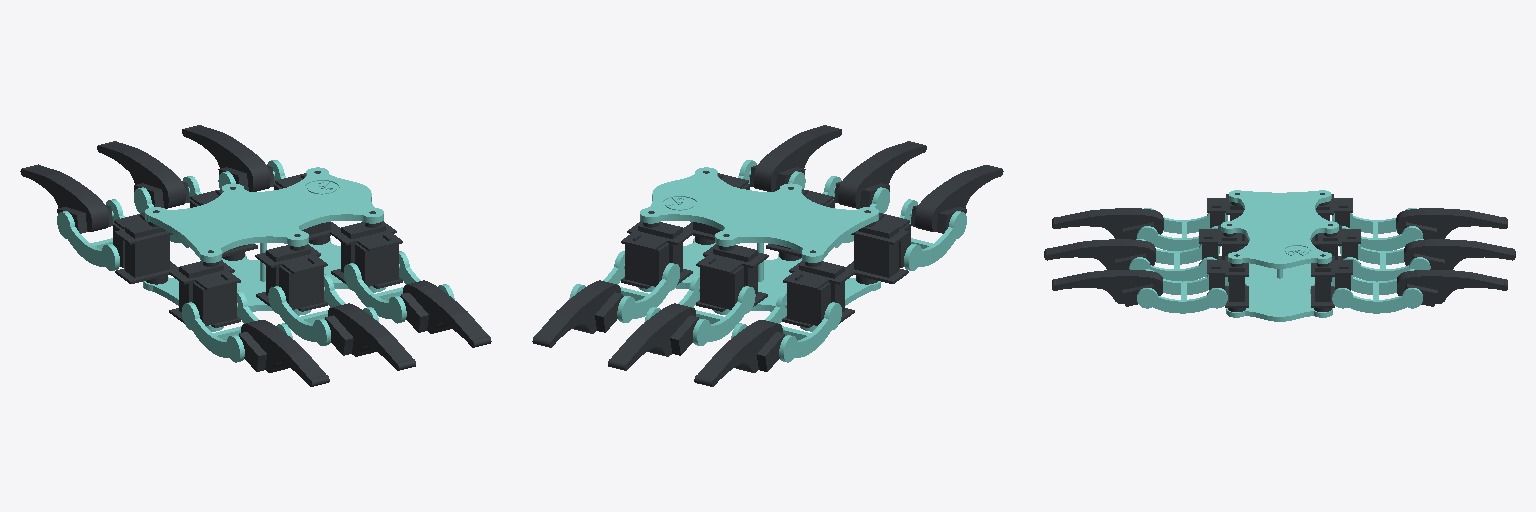
URDF robot description (COMPLETE):
<?xml version="1.0" ?>
<!-- Generated using onshape-to-robot -->
<!-- Onshape document_id: b8b254ae2dc4b877212314ad -->
<robot name="COMPLETE">
  <!-- Link corpo_center -->
  <link name="corpo_center">
    <inertial>
      <origin xyz="-0.000700181 0.00144946 0.405122" rpy="0 0 0"/>
      <mass value="399.518"/>
      <inertia ixx="100.114" ixy="0.152509" ixz="0.0528428" iyy="212.406" iyz="-0.219103" izz="199.064"/>
    </inertial>
    <!-- Part corpo_center -->
    <visual>
      <origin xyz="-0.0143743 0.00199567 -0.26" rpy="0 -0 0"/>
      <geometry>
        <mesh filename="package://assets/corpo_center.stl"/>
      </geometry>
      <material name="corpo_center_material">
        <color rgba="0.537255 0.854902 0.827451 1"/>
      </material>
    </visual>
  </link>
  <!-- Link coxa_left -->
  <link name="coxa_left">
    <inertial>
      <origin xyz="-0.0925616 0.105337 -0.414798" rpy="0 0 0"/>
      <mass value="114.719"/>
      <inertia ixx="5.39674" ixy="0.00271709" ixz="0.152845" iyy="4.85407" iyz="0.0207568" izz="4.06893"/>
    </inertial>
    <!-- Part coxa_left -->
    <visual>
      <origin xyz="0.958607 -1.04994 -1.085" rpy="-0 -0 0"/>
      <geometry>
        <mesh filename="package://assets/coxa_left.stl"/>
      </geometry>
      <material name="coxa_left_material">
        <color rgba="0.262745 0.282353 0.301961 1"/>
      </material>
    </visual>
    <collision>
      <origin xyz="0.958607 -1.04994 -1.085" rpy="-0 -0 0"/>
      <geometry>
        <mesh filename="package://assets/coxa_left.stl"/>
      </geometry>
    </collision>
  </link>
  <!-- Link femur_left -->
  <link name="femur_left">
    <inertial>
      <origin xyz="-0.0643845 0.446229 0.220001" rpy="0 0 0"/>
      <mass value="40.6019"/>
      <inertia ixx="6.83684" ixy="-0.00986258" ixz="-0.000315484" iyy="2.98626" iyz="0.000376993" izz="4.36702"/>
    </inertial>
    <!-- Part femur_left -->
    <visual>
      <origin xyz="-0.563378 -1.80581 -0.838551" rpy="1.57104 1.57069 1.5708"/>
      <geometry>
        <mesh filename="package://assets/femur_left.stl"/>
      </geometry>
      <material name="femur_left_material">
        <color rgba="0.537255 0.854902 0.827451 1"/>
      </material>
    </visual>
    <collision>
      <origin xyz="-0.563378 -1.80581 -0.838551" rpy="1.57104 1.57069 1.5708"/>
      <geometry>
        <mesh filename="package://assets/femur_left.stl"/>
      </geometry>
    </collision>
  </link>
  <!-- Link tibia_left -->
  <link name="tibia_left">
    <inertial>
      <origin xyz="0.0462768 0.291384 0.219975" rpy="0 0 0"/>
      <mass value="99.5939"/>
      <inertia ixx="11.0909" ixy="-0.806653" ixz="0.000179441" iyy="1.63167" iyz="0.000716102" izz="11.2229"/>
    </inertial>
    <!-- Part tibia_left -->
    <visual>
      <origin xyz="-0.713466 -3.17596 -0.837714" rpy="-1.52343 1.57063 -1.5708"/>
      <geometry>
        <mesh filename="package://assets/tibia_left.stl"/>
      </geometry>
      <material name="tibia_left_material">
        <color rgba="0.262745 0.282353 0.301961 1"/>
      </material>
    </visual>
    <collision>
      <origin xyz="-0.713466 -3.17596 -0.837714" rpy="-1.52343 1.57063 -1.5708"/>
      <geometry>
        <mesh filename="package://assets/tibia_left.stl"/>
      </geometry>
    </collision>
  </link>
  <!-- Joint from femur_left to tibia_left -->
  <joint name="tibia_1" type="revolute">
    <origin xyz="-0.000422005 0.9 0" rpy="0 -0 -0"/>
    <parent link="femur_left"/>
    <child link="tibia_left"/>
    <axis xyz="0 0 1"/>
    <limit effort="10" velocity="10" lower="-3.14159" upper="3.14159"/>
  </joint>
  <!-- Joint from coxa_left to femur_left -->
  <joint name="femur_1" type="revolute">
    <origin xyz="0.120255 0.256037 -0.522" rpy="-0.000110389 -1.5708 0"/>
    <parent link="coxa_left"/>
    <child link="femur_left"/>
    <axis xyz="0 0 1"/>
    <limit effort="10" velocity="10" lower="-1.5708" upper="1.5708"/>
  </joint>
  <!-- Joint from corpo_center to coxa_left -->
  <joint name="coxa_1" type="revolute">
    <origin xyz="0.90389 0.557355 0.825" rpy="0 -0 0"/>
    <parent link="corpo_center"/>
    <child link="coxa_left"/>
    <axis xyz="0 0 1"/>
    <limit effort="10" velocity="10" lower="-1.5708" upper="1.5708"/>
  </joint>
  <!-- Link coxa_left_2 -->
  <link name="coxa_left_2">
    <inertial>
      <origin xyz="-0.0925616 0.105337 -0.414798" rpy="0 0 0"/>
      <mass value="114.719"/>
      <inertia ixx="5.39674" ixy="0.00271709" ixz="0.152845" iyy="4.85407" iyz="0.0207568" izz="4.06893"/>
    </inertial>
    <!-- Part coxa_left_2 -->
    <visual>
      <origin xyz="0.958607 -1.04994 -1.085" rpy="0 -0 0"/>
      <geometry>
        <mesh filename="package://assets/coxa_left.stl"/>
      </geometry>
      <material name="coxa_left_2_material">
        <color rgba="0.262745 0.282353 0.301961 1"/>
      </material>
    </visual>
    <collision>
      <origin xyz="0.958607 -1.04994 -1.085" rpy="0 -0 0"/>
      <geometry>
        <mesh filename="package://assets/coxa_left.stl"/>
      </geometry>
    </collision>
  </link>
  <!-- Link femur_left_2 -->
  <link name="femur_left_2">
    <inertial>
      <origin xyz="-0.0643845 0.446229 0.220001" rpy="0 0 0"/>
      <mass value="40.6019"/>
      <inertia ixx="6.83684" ixy="-0.00986258" ixz="-0.000315484" iyy="2.98626" iyz="0.000376993" izz="4.36702"/>
    </inertial>
    <!-- Part femur_left_2 -->
    <visual>
      <origin xyz="-0.563378 -1.80581 -0.838551" rpy="1.57104 1.57069 1.5708"/>
      <geometry>
        <mesh filename="package://assets/femur_left.stl"/>
      </geometry>
      <material name="femur_left_2_material">
        <color rgba="0.537255 0.854902 0.827451 1"/>
      </material>
    </visual>
    <collision>
      <origin xyz="-0.563378 -1.80581 -0.838551" rpy="1.57104 1.57069 1.5708"/>
      <geometry>
        <mesh filename="package://assets/femur_left.stl"/>
      </geometry>
    </collision>
  </link>
  <!-- Link tibia_left_2 -->
  <link name="tibia_left_2">
    <inertial>
      <origin xyz="0.0462768 0.291384 0.219975" rpy="0 0 0"/>
      <mass value="99.5939"/>
      <inertia ixx="11.0909" ixy="-0.806653" ixz="0.000179441" iyy="1.63167" iyz="0.000716102" izz="11.2229"/>
    </inertial>
    <!-- Part tibia_left_2 -->
    <visual>
      <origin xyz="-0.713466 -3.17596 -0.837714" rpy="-1.52343 1.57063 -1.5708"/>
      <geometry>
        <mesh filename="package://assets/tibia_left.stl"/>
      </geometry>
      <material name="tibia_left_2_material">
        <color rgba="0.262745 0.282353 0.301961 1"/>
      </material>
    </visual>
    <collision>
      <origin xyz="-0.713466 -3.17596 -0.837714" rpy="-1.52343 1.57063 -1.5708"/>
      <geometry>
        <mesh filename="package://assets/tibia_left.stl"/>
      </geometry>
    </collision>
  </link>
  <!-- Joint from femur_left_2 to tibia_left_2 -->
  <joint name="tibia_2" type="revolute">
    <origin xyz="-0.000422005 0.9 0" rpy="0 -0 -0"/>
    <parent link="femur_left_2"/>
    <child link="tibia_left_2"/>
    <axis xyz="0 0 1"/>
    <limit effort="10" velocity="10" lower="-3.14159" upper="3.14159"/>
  </joint>
  <!-- Joint from coxa_left_2 to femur_left_2 -->
  <joint name="femur_2" type="revolute">
    <origin xyz="0.120255 0.256037 -0.522" rpy="-0.000110389 -1.5708 0"/>
    <parent link="coxa_left_2"/>
    <child link="femur_left_2"/>
    <axis xyz="0 0 1"/>
    <limit effort="10" velocity="10" lower="-1.5708" upper="1.5708"/>
  </joint>
  <!-- Joint from corpo_center to coxa_left_2 -->
  <joint name="coxa_2" type="revolute">
    <origin xyz="-0.0260145 0.65288 0.825" rpy="0 -0 0"/>
    <parent link="corpo_center"/>
    <child link="coxa_left_2"/>
    <axis xyz="0 0 1"/>
    <limit effort="10" velocity="10" lower="-1.5708" upper="1.5708"/>
  </joint>
  <!-- Link coxa_left_3 -->
  <link name="coxa_left_3">
    <inertial>
      <origin xyz="-0.0925616 0.105337 -0.414798" rpy="0 0 0"/>
      <mass value="114.719"/>
      <inertia ixx="5.39674" ixy="0.00271709" ixz="0.152845" iyy="4.85407" iyz="0.0207568" izz="4.06893"/>
    </inertial>
    <!-- Part coxa_left_3 -->
    <visual>
      <origin xyz="0.958607 -1.04994 -1.085" rpy="0 -0 0"/>
      <geometry>
        <mesh filename="package://assets/coxa_left.stl"/>
      </geometry>
      <material name="coxa_left_3_material">
        <color rgba="0.262745 0.282353 0.301961 1"/>
      </material>
    </visual>
    <collision>
      <origin xyz="0.958607 -1.04994 -1.085" rpy="0 -0 0"/>
      <geometry>
        <mesh filename="package://assets/coxa_left.stl"/>
      </geometry>
    </collision>
  </link>
  <!-- Link femur_left_3 -->
  <link name="femur_left_3">
    <inertial>
      <origin xyz="-0.0643845 0.446229 0.220001" rpy="0 0 0"/>
      <mass value="40.6019"/>
      <inertia ixx="6.83684" ixy="-0.00986258" ixz="-0.000315484" iyy="2.98626" iyz="0.000376993" izz="4.36702"/>
    </inertial>
    <!-- Part femur_left_3 -->
    <visual>
      <origin xyz="-0.563378 -1.80581 -0.838551" rpy="1.57104 1.57069 1.5708"/>
      <geometry>
        <mesh filename="package://assets/femur_left.stl"/>
      </geometry>
      <material name="femur_left_3_material">
        <color rgba="0.537255 0.854902 0.827451 1"/>
      </material>
    </visual>
    <collision>
      <origin xyz="-0.563378 -1.80581 -0.838551" rpy="1.57104 1.57069 1.5708"/>
      <geometry>
        <mesh filename="package://assets/femur_left.stl"/>
      </geometry>
    </collision>
  </link>
  <!-- Link tibia_left_3 -->
  <link name="tibia_left_3">
    <inertial>
      <origin xyz="0.0462768 0.291384 0.219975" rpy="0 0 0"/>
      <mass value="99.5939"/>
      <inertia ixx="11.0909" ixy="-0.806653" ixz="0.000179441" iyy="1.63167" iyz="0.000716102" izz="11.2229"/>
    </inertial>
    <!-- Part tibia_left_3 -->
    <visual>
      <origin xyz="-0.713466 -3.17596 -0.837714" rpy="-1.52343 1.57063 -1.5708"/>
      <geometry>
        <mesh filename="package://assets/tibia_left.stl"/>
      </geometry>
      <material name="tibia_left_3_material">
        <color rgba="0.262745 0.282353 0.301961 1"/>
      </material>
    </visual>
    <collision>
      <origin xyz="-0.713466 -3.17596 -0.837714" rpy="-1.52343 1.57063 -1.5708"/>
      <geometry>
        <mesh filename="package://assets/tibia_left.stl"/>
      </geometry>
    </collision>
  </link>
  <!-- Joint from femur_left_3 to tibia_left_3 -->
  <joint name="tibia_3" type="revolute">
    <origin xyz="-0.000422005 0.9 0" rpy="0 -0 -0"/>
    <parent link="femur_left_3"/>
    <child link="tibia_left_3"/>
    <axis xyz="0 0 1"/>
    <limit effort="10" velocity="10" lower="-3.14159" upper="3.14159"/>
  </joint>
  <!-- Joint from coxa_left_3 to femur_left_3 -->
  <joint name="femur_3" type="revolute">
    <origin xyz="0.120255 0.256037 -0.522" rpy="-0.000110389 -1.5708 0"/>
    <parent link="coxa_left_3"/>
    <child link="femur_left_3"/>
    <axis xyz="0 0 1"/>
    <limit effort="10" velocity="10" lower="-1.5708" upper="1.5708"/>
  </joint>
  <!-- Joint from corpo_center to coxa_left_3 -->
  <joint name="coxa_3" type="revolute">
    <origin xyz="-0.975281 0.553256 0.825" rpy="0 -0 0"/>
    <parent link="corpo_center"/>
    <child link="coxa_left_3"/>
    <axis xyz="0 0 1"/>
    <limit effort="10" velocity="10" lower="-1.5708" upper="1.5708"/>
  </joint>
  <!-- Link coxa_right -->
  <link name="coxa_right">
    <inertial>
      <origin xyz="0.0925616 0.105337 -0.414798" rpy="0 0 0"/>
      <mass value="114.719"/>
      <inertia ixx="5.39674" ixy="-0.00271709" ixz="-0.152845" iyy="4.85407" iyz="0.0207568" izz="4.06893"/>
    </inertial>
    <!-- Part coxa_right -->
    <visual>
      <origin xyz="-0.958607 -1.04994 -1.085" rpy="0 -0 3.14159"/>
      <geometry>
        <mesh filename="package://assets/coxa_right.stl"/>
      </geometry>
      <material name="coxa_right_material">
        <color rgba="0.262745 0.282353 0.301961 1"/>
      </material>
    </visual>
    <collision>
      <origin xyz="-0.958607 -1.04994 -1.085" rpy="0 -0 3.14159"/>
      <geometry>
        <mesh filename="package://assets/coxa_right.stl"/>
      </geometry>
    </collision>
  </link>
  <!-- Link femur_right -->
  <link name="femur_right">
    <inertial>
      <origin xyz="-0.0643858 0.44623 -0.220012" rpy="0 0 0"/>
      <mass value="40.6012"/>
      <inertia ixx="6.83683" ixy="-0.00987965" ixz="0.000310421" iyy="2.98625" iyz="-0.00045093" izz="4.36704"/>
    </inertial>
    <!-- Part femur_right -->
    <visual>
      <origin xyz="-0.563378 -1.80581 0.838551" rpy="1.57055 -1.57069 1.5708"/>
      <geometry>
        <mesh filename="package://assets/femur_right.stl"/>
      </geometry>
      <material name="femur_right_material">
        <color rgba="0.537255 0.854902 0.827451 1"/>
      </material>
    </visual>
    <collision>
      <origin xyz="-0.563378 -1.80581 0.838551" rpy="1.57055 -1.57069 1.5708"/>
      <geometry>
        <mesh filename="package://assets/femur_right.stl"/>
      </geometry>
    </collision>
  </link>
  <!-- Link tibia_right -->
  <link name="tibia_right">
    <inertial>
      <origin xyz="0.0462865 0.291384 -0.219979" rpy="0 0 0"/>
      <mass value="99.5817"/>
      <inertia ixx="11.0902" ixy="-0.806693" ixz="-0.000202021" iyy="1.63122" iyz="-0.000693737" izz="11.2218"/>
    </inertial>
    <!-- Part tibia_right -->
    <visual>
      <origin xyz="-0.713466 -3.17596 0.837714" rpy="-1.61816 -1.57063 -1.5708"/>
      <geometry>
        <mesh filename="package://assets/tibia_right.stl"/>
      </geometry>
      <material name="tibia_right_material">
        <color rgba="0.262745 0.282353 0.301961 1"/>
      </material>
    </visual>
    <collision>
      <origin xyz="-0.713466 -3.17596 0.837714" rpy="-1.61816 -1.57063 -1.5708"/>
      <geometry>
        <mesh filename="package://assets/tibia_right.stl"/>
      </geometry>
    </collision>
  </link>
  <!-- Joint from femur_right to tibia_right -->
  <joint name="tibia_4" type="revolute">
    <origin xyz="-0.000422005 0.9 -0" rpy="-0 0 -0"/>
    <parent link="femur_right"/>
    <child link="tibia_right"/>
    <axis xyz="0 0 1"/>
    <limit effort="10" velocity="10" lower="-3.14159" upper="3.14159"/>
  </joint>
  <!-- Joint from coxa_right to femur_right -->
  <joint name="femur_4" type="revolute">
    <origin xyz="-0.120255 0.256037 -0.522" rpy="0.000110389 -1.5708 0"/>
    <parent link="coxa_right"/>
    <child link="femur_right"/>
    <axis xyz="0 0 1"/>
    <limit effort="10" velocity="10" lower="-1.5708" upper="1.5708"/>
  </joint>
  <!-- Joint from corpo_center to coxa_right -->
  <joint name="coxa_4" type="revolute">
    <origin xyz="0.90332 -0.55261 0.825" rpy="0 -0 3.14159"/>
    <parent link="corpo_center"/>
    <child link="coxa_right"/>
    <axis xyz="0 0 1"/>
    <limit effort="10" velocity="10" lower="-1.5708" upper="1.5708"/>
  </joint>
  <!-- Link coxa_right_2 -->
  <link name="coxa_right_2">
    <inertial>
      <origin xyz="0.0925616 0.105337 -0.414798" rpy="0 0 0"/>
      <mass value="114.719"/>
      <inertia ixx="5.39674" ixy="-0.00271709" ixz="-0.152845" iyy="4.85407" iyz="0.0207568" izz="4.06893"/>
    </inertial>
    <!-- Part coxa_right_2 -->
    <visual>
      <origin xyz="-0.958607 -1.04994 -1.085" rpy="0 -0 3.14159"/>
      <geometry>
        <mesh filename="package://assets/coxa_right.stl"/>
      </geometry>
      <material name="coxa_right_2_material">
        <color rgba="0.262745 0.282353 0.301961 1"/>
      </material>
    </visual>
    <collision>
      <origin xyz="-0.958607 -1.04994 -1.085" rpy="0 -0 3.14159"/>
      <geometry>
        <mesh filename="package://assets/coxa_right.stl"/>
      </geometry>
    </collision>
  </link>
  <!-- Link femur_right_2 -->
  <link name="femur_right_2">
    <inertial>
      <origin xyz="-0.0643858 0.44623 -0.220012" rpy="0 0 0"/>
      <mass value="40.6012"/>
      <inertia ixx="6.83683" ixy="-0.00987965" ixz="0.000310421" iyy="2.98625" iyz="-0.00045093" izz="4.36704"/>
    </inertial>
    <!-- Part femur_right_2 -->
    <visual>
      <origin xyz="-0.563378 -1.80581 0.838551" rpy="1.57055 -1.57069 1.5708"/>
      <geometry>
        <mesh filename="package://assets/femur_right.stl"/>
      </geometry>
      <material name="femur_right_2_material">
        <color rgba="0.537255 0.854902 0.827451 1"/>
      </material>
    </visual>
    <collision>
      <origin xyz="-0.563378 -1.80581 0.838551" rpy="1.57055 -1.57069 1.5708"/>
      <geometry>
        <mesh filename="package://assets/femur_right.stl"/>
      </geometry>
    </collision>
  </link>
  <!-- Link tibia_right_2 -->
  <link name="tibia_right_2">
    <inertial>
      <origin xyz="0.0462865 0.291384 -0.219979" rpy="0 0 0"/>
      <mass value="99.5817"/>
      <inertia ixx="11.0902" ixy="-0.806693" ixz="-0.000202021" iyy="1.63122" iyz="-0.000693737" izz="11.2218"/>
    </inertial>
    <!-- Part tibia_right_2 -->
    <visual>
      <origin xyz="-0.713466 -3.17596 0.837714" rpy="-1.61816 -1.57063 -1.5708"/>
      <geometry>
        <mesh filename="package://assets/tibia_right.stl"/>
      </geometry>
      <material name="tibia_right_2_material">
        <color rgba="0.262745 0.282353 0.301961 1"/>
      </material>
    </visual>
    <collision>
      <origin xyz="-0.713466 -3.17596 0.837714" rpy="-1.61816 -1.57063 -1.5708"/>
      <geometry>
        <mesh filename="package://assets/tibia_right.stl"/>
      </geometry>
    </collision>
  </link>
  <!-- Joint from femur_right_2 to tibia_right_2 -->
  <joint name="tibia_5" type="revolute">
    <origin xyz="-0.000422005 0.9 -0" rpy="-0 0 -0"/>
    <parent link="femur_right_2"/>
    <child link="tibia_right_2"/>
    <axis xyz="0 0 1"/>
    <limit effort="10" velocity="10" lower="-3.14159" upper="3.14159"/>
  </joint>
  <!-- Joint from coxa_right_2 to femur_right_2 -->
  <joint name="femur_5" type="revolute">
    <origin xyz="-0.120255 0.256037 -0.522" rpy="0.000110389 -1.5708 0"/>
    <parent link="coxa_right_2"/>
    <child link="femur_right_2"/>
    <axis xyz="0 0 1"/>
    <limit effort="10" velocity="10" lower="-1.5708" upper="1.5708"/>
  </joint>
  <!-- Joint from corpo_center to coxa_right_2 -->
  <joint name="coxa_5" type="revolute">
    <origin xyz="-0.0265937 -0.64712 0.825" rpy="0 -0 3.14159"/>
    <parent link="corpo_center"/>
    <child link="coxa_right_2"/>
    <axis xyz="0 0 1"/>
    <limit effort="10" velocity="10" lower="-1.5708" upper="1.5708"/>
  </joint>
  <!-- Link coxa_right_3 -->
  <link name="coxa_right_3">
    <inertial>
      <origin xyz="0.0925616 0.105337 -0.414798" rpy="0 0 0"/>
      <mass value="114.719"/>
      <inertia ixx="5.39674" ixy="-0.00271709" ixz="-0.152845" iyy="4.85407" iyz="0.0207568" izz="4.06893"/>
    </inertial>
    <!-- Part coxa_right_3 -->
    <visual>
      <origin xyz="-0.958607 -1.04994 -1.085" rpy="0 -0 3.14159"/>
      <geometry>
        <mesh filename="package://assets/coxa_right.stl"/>
      </geometry>
      <material name="coxa_right_3_material">
        <color rgba="0.262745 0.282353 0.301961 1"/>
      </material>
    </visual>
    <collision>
      <origin xyz="-0.958607 -1.04994 -1.085" rpy="0 -0 3.14159"/>
      <geometry>
        <mesh filename="package://assets/coxa_right.stl"/>
      </geometry>
    </collision>
  </link>
  <!-- Link femur_right_3 -->
  <link name="femur_right_3">
    <inertial>
      <origin xyz="-0.0643858 0.44623 -0.220012" rpy="0 0 0"/>
      <mass value="40.6012"/>
      <inertia ixx="6.83683" ixy="-0.00987965" ixz="0.000310421" iyy="2.98625" iyz="-0.00045093" izz="4.36704"/>
    </inertial>
    <!-- Part femur_right_3 -->
    <visual>
      <origin xyz="-0.563378 -1.80581 0.838551" rpy="1.57055 -1.57069 1.5708"/>
      <geometry>
        <mesh filename="package://assets/femur_right.stl"/>
      </geometry>
      <material name="femur_right_3_material">
        <color rgba="0.537255 0.854902 0.827451 1"/>
      </material>
    </visual>
    <collision>
      <origin xyz="-0.563378 -1.80581 0.838551" rpy="1.57055 -1.57069 1.5708"/>
      <geometry>
        <mesh filename="package://assets/femur_right.stl"/>
      </geometry>
    </collision>
  </link>
  <!-- Link tibia_right_3 -->
  <link name="tibia_right_3">
    <inertial>
      <origin xyz="0.0462865 0.291384 -0.219979" rpy="0 0 0"/>
      <mass value="99.5817"/>
      <inertia ixx="11.0902" ixy="-0.806693" ixz="-0.000202021" iyy="1.63122" iyz="-0.000693737" izz="11.2218"/>
    </inertial>
    <!-- Part tibia_right_3 -->
    <visual>
      <origin xyz="-0.713466 -3.17596 0.837714" rpy="-1.61816 -1.57063 -1.5708"/>
      <geometry>
        <mesh filename="package://assets/tibia_right.stl"/>
      </geometry>
      <material name="tibia_right_3_material">
        <color rgba="0.262745 0.282353 0.301961 1"/>
      </material>
    </visual>
    <collision>
      <origin xyz="-0.713466 -3.17596 0.837714" rpy="-1.61816 -1.57063 -1.5708"/>
      <geometry>
        <mesh filename="package://assets/tibia_right.stl"/>
      </geometry>
    </collision>
  </link>
  <!-- Joint from femur_right_3 to tibia_right_3 -->
  <joint name="tibia_6" type="revolute">
    <origin xyz="-0.000422005 0.9 -0" rpy="-0 0 -0"/>
    <parent link="femur_right_3"/>
    <child link="tibia_right_3"/>
    <axis xyz="0 0 1"/>
    <limit effort="10" velocity="10" lower="-3.14159" upper="3.14159"/>
  </joint>
  <!-- Joint from coxa_right_3 to femur_right_3 -->
  <joint name="femur_6" type="revolute">
    <origin xyz="-0.120255 0.256037 -0.522" rpy="0.000110389 -1.5708 0"/>
    <parent link="coxa_right_3"/>
    <child link="femur_right_3"/>
    <axis xyz="0 0 1"/>
    <limit effort="10" velocity="10" lower="-1.5708" upper="1.5708"/>
  </joint>
  <!-- Joint from corpo_center to coxa_right_3 -->
  <joint name="coxa_6" type="revolute">
    <origin xyz="-0.975677 -0.546697 0.825" rpy="0 -0 3.14159"/>
    <parent link="corpo_center"/>
    <child link="coxa_right_3"/>
    <axis xyz="0 0 1"/>
    <limit effort="10" velocity="10" lower="-1.5708" upper="1.5708"/>
  </joint>
</robot>

--- Render facts (derived) ---
The picture shows the robot from 3 angles, left to right: view 1: azimuth 30°, elevation 25°; view 2: azimuth 150°, elevation 25°; view 3: azimuth 270°, elevation 25°; orthographic projection.
Model COMPLETE with 19 links and 18 joints (18 revolute), rooted at corpo_center, posed all joints at 0.
Visible links, largest first — view 1: corpo_center, coxa_right, coxa_right_2, coxa_right_3, coxa_left_3, tibia_right_2, tibia_right_3, tibia_right, tibia_left_3, tibia_left_2, tibia_left, femur_right_3 (+6 smaller); view 2: corpo_center, coxa_left, coxa_left_2, coxa_left_3, coxa_right_3, tibia_left_2, tibia_left, tibia_left_3, tibia_right_3, tibia_right_2, tibia_right, femur_left_3 (+6 smaller); view 3: corpo_center, tibia_right, tibia_left, tibia_left_2, tibia_right_2, tibia_right_3, tibia_left_3, femur_right, femur_left, femur_left_2, femur_right_2, coxa_left (+7 smaller).
Link boxes in pixels (<box>): corpo_center: <box>143,167,385,331</box>; coxa_right: <box>330,211,402,288</box>; coxa_right_2: <box>255,234,327,311</box>; coxa_right_3: <box>169,250,240,327</box>; coxa_left_3: <box>113,210,178,284</box>; tibia_right_2: <box>325,303,415,370</box>; tibia_right_3: <box>239,320,329,386</box>; tibia_right: <box>400,280,491,347</box>; tibia_left_3: <box>20,164,112,233</box>; tibia_left_2: <box>97,141,189,208</box>; tibia_left: <box>182,125,274,191</box>; femur_right_3: <box>182,290,292,362</box>; corpo_center: <box>638,167,880,331</box>; coxa_left: <box>621,211,693,288</box>; coxa_left_2: <box>696,234,768,311</box>; coxa_left_3: <box>782,250,854,327</box>; coxa_right_3: <box>845,210,910,284</box>; tibia_left_2: <box>608,303,698,370</box>; tibia_left: <box>532,280,623,347</box>; tibia_left_3: <box>694,320,784,386</box>; tibia_right_3: <box>911,165,1003,233</box>; tibia_right_2: <box>834,141,926,208</box>; tibia_right: <box>749,125,841,191</box>; femur_left_3: <box>731,291,841,362</box>; corpo_center: <box>1221,190,1338,321</box>; tibia_right: <box>1052,270,1162,306</box>; tibia_left: <box>1397,270,1507,306</box>; tibia_left_2: <box>1404,239,1515,269</box>; tibia_right_2: <box>1044,239,1155,269</box>; tibia_right_3: <box>1052,208,1163,239</box>; tibia_left_3: <box>1396,208,1507,239</box>; femur_right: <box>1137,269,1227,313</box>; femur_left: <box>1332,269,1422,313</box>; femur_left_2: <box>1340,239,1430,281</box>; femur_right_2: <box>1129,239,1219,281</box>; coxa_left: <box>1311,254,1352,311</box>.
Bounding box of the posed robot: 2.54 × 6.08 × 0.825 m (x, y, z).
19 mesh visuals loaded from 7 distinct referenced files (7 binary STL).
